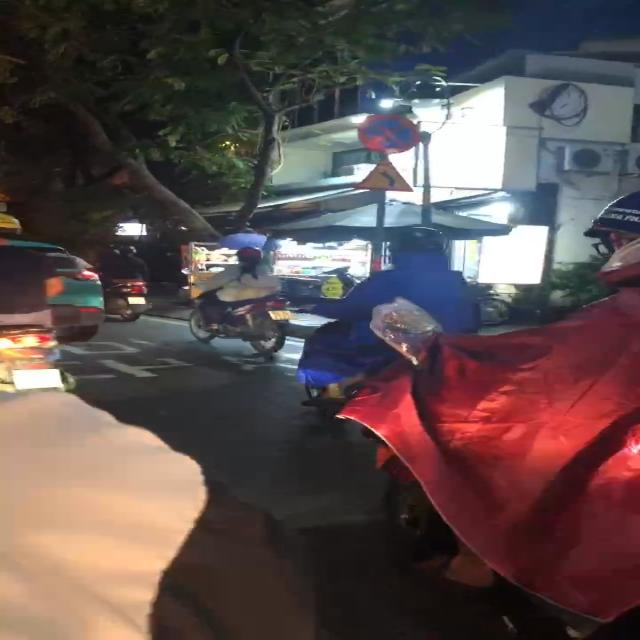Bien bao cho ngoat nguy hiem: (351, 156, 419, 194)
